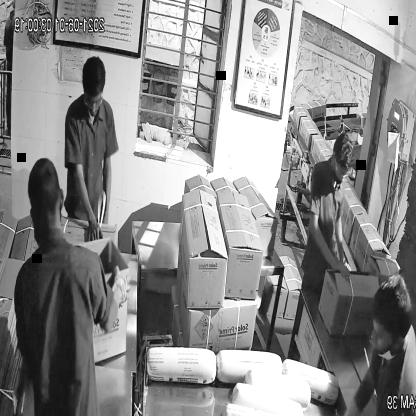goggles: (329, 158, 352, 184)
